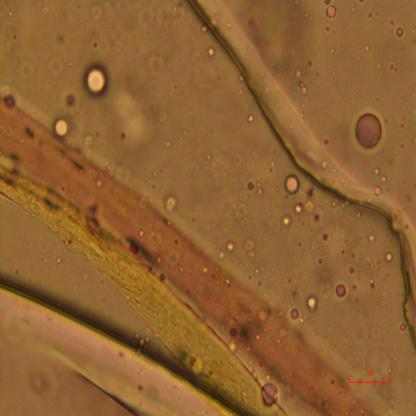Background material: (185, 1, 416, 350), (258, 2, 308, 83), (105, 89, 164, 156), (228, 177, 263, 226), (350, 108, 384, 152), (83, 63, 112, 94), (280, 171, 304, 202), (48, 118, 74, 146), (58, 86, 84, 114), (144, 52, 169, 77), (44, 54, 66, 81), (261, 378, 280, 408), (166, 0, 186, 27), (315, 276, 334, 302), (156, 191, 178, 213), (302, 293, 319, 321), (21, 55, 37, 84), (306, 197, 322, 225), (296, 72, 309, 106), (332, 279, 350, 303), (244, 236, 255, 267), (53, 28, 70, 47), (368, 324, 384, 342), (89, 1, 102, 22), (324, 3, 336, 25), (83, 130, 97, 148), (372, 181, 384, 201), (368, 275, 380, 294), (279, 216, 296, 229), (191, 47, 203, 65), (288, 305, 300, 322), (382, 60, 396, 72), (366, 233, 377, 248), (225, 237, 236, 252), (367, 6, 378, 21), (382, 252, 395, 264), (111, 38, 123, 51), (306, 186, 317, 200), (292, 204, 302, 219), (207, 44, 216, 60), (163, 138, 175, 150), (316, 254, 325, 268), (399, 321, 408, 334), (338, 246, 348, 257), (236, 74, 247, 84), (232, 156, 243, 166), (220, 252, 229, 264), (396, 27, 404, 40), (380, 173, 390, 183), (348, 266, 356, 278), (325, 231, 332, 244), (247, 113, 255, 124), (321, 139, 330, 147), (398, 144, 407, 152), (389, 18, 396, 28), (201, 23, 208, 33), (357, 209, 363, 220), (204, 154, 212, 162), (257, 279, 263, 289), (307, 61, 314, 68), (92, 41, 98, 48), (354, 93, 361, 99), (330, 49, 335, 56), (376, 168, 380, 176), (326, 28, 330, 34)
Microfibre: (1, 107, 366, 414), (0, 168, 281, 415), (0, 285, 237, 414)
